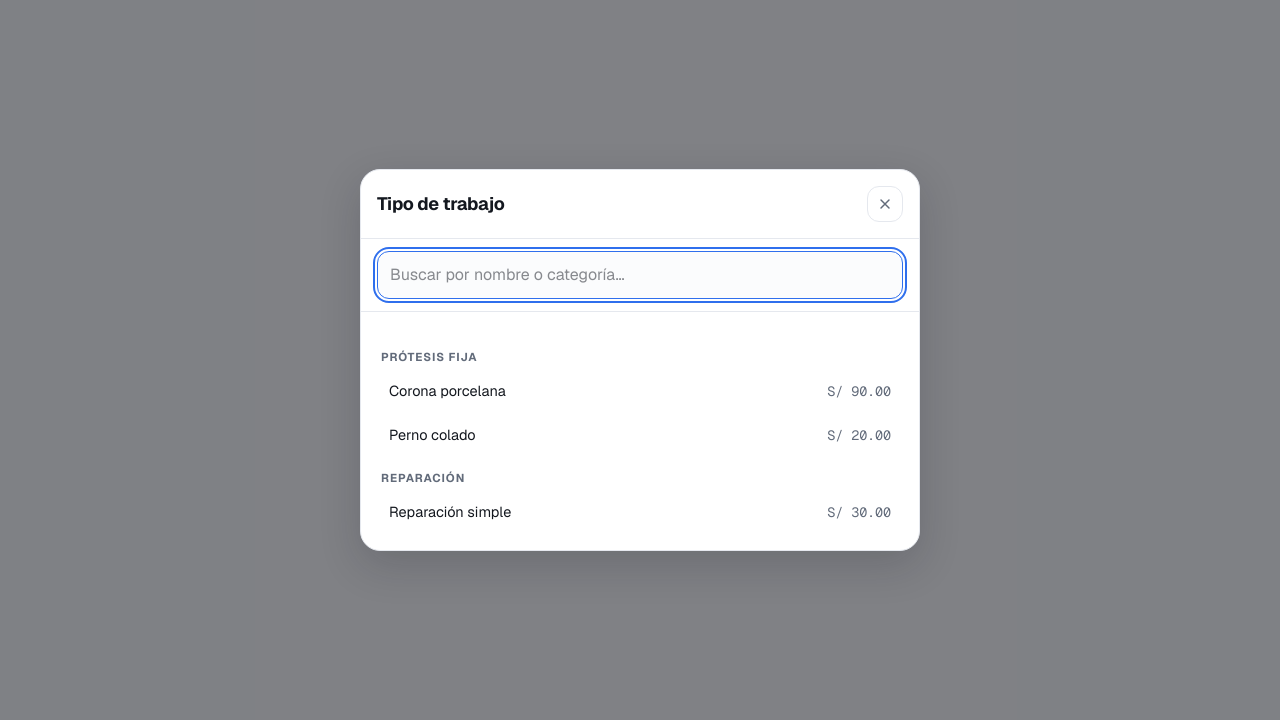
Test: TipoSheet › el buscador filtra la lista
Type "perno" into the field labelled "Buscar por nombre o categoría…". click: (640,275)
box: [377, 251, 903, 299]
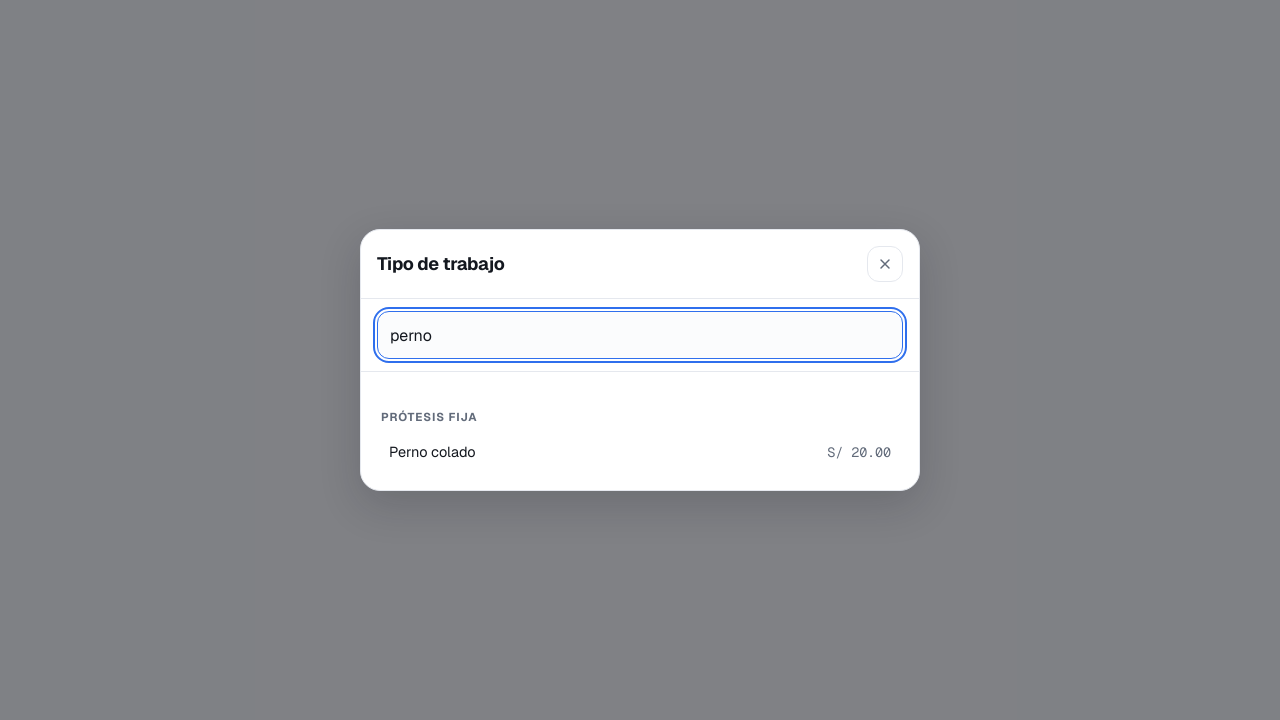
expect the text "Perno colado" is shown: met, box [389, 441, 476, 463]
expect the button "Corona porcelana" is gone: met
